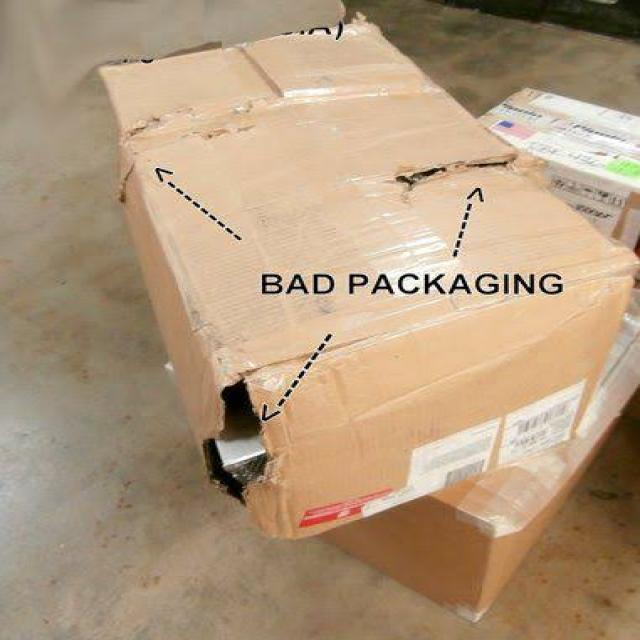package_damage: (171, 359, 321, 544), (388, 131, 565, 220), (104, 109, 258, 200)
